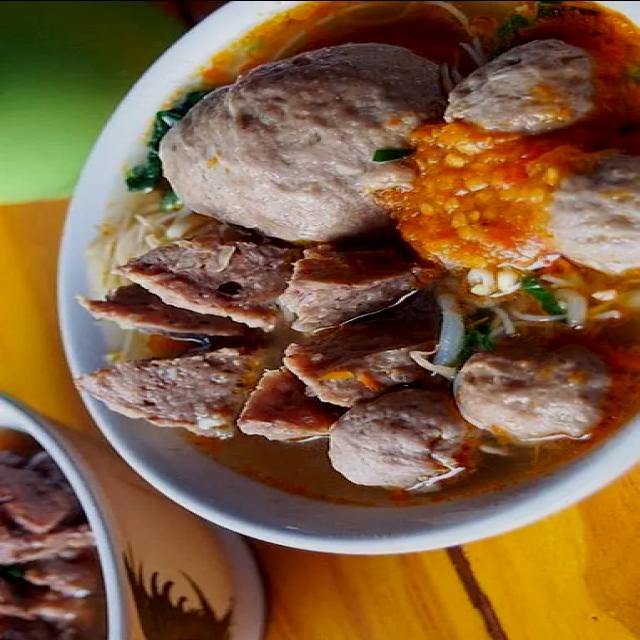bakso: (67, 0, 640, 532)
